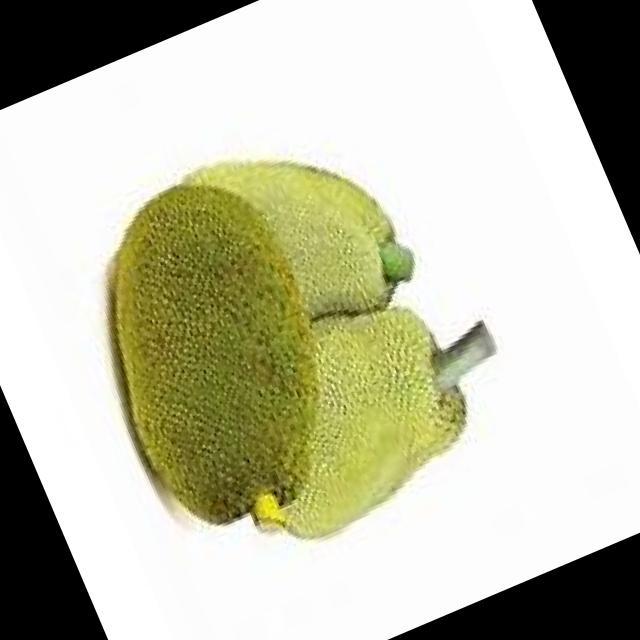Fruit: (12, 68, 510, 582)
